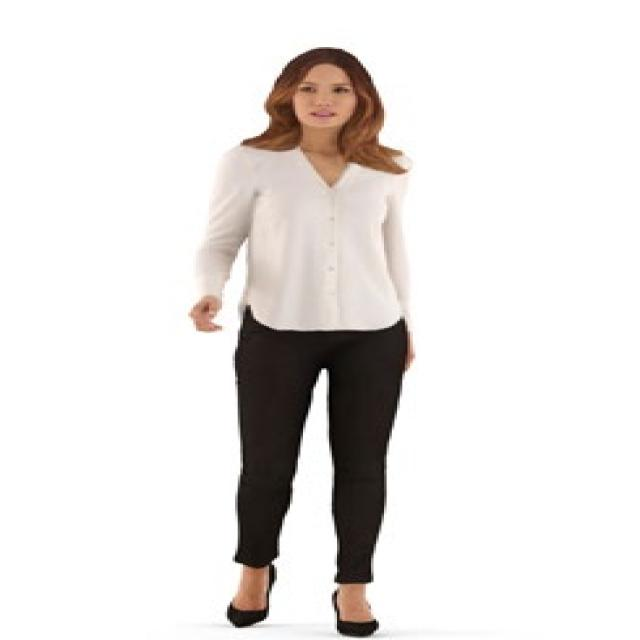standing: (188, 47, 417, 640)
